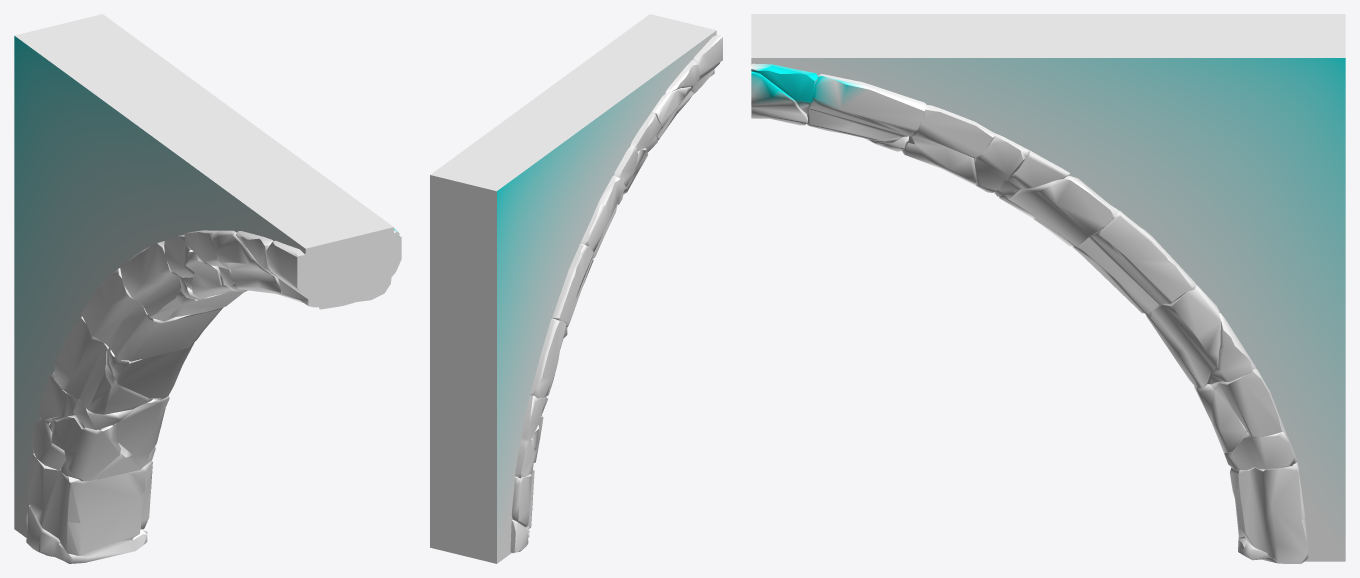
File: SM_ArchWall_OpenArch_8x4_A_Half.glb
The picture shows the model from 3 angles, left to right: view 1: azimuth 30°, elevation 25°; view 2: azimuth 150°, elevation 25°; view 3: azimuth 270°, elevation 25°; orthographic projection. The views are drawn at different scales.
Visible parts, largest first — view 1: SM_ArchWall_OpenArch_8x4_A_Half_LOD0; view 2: SM_ArchWall_OpenArch_8x4_A_Half_LOD0; view 3: SM_ArchWall_OpenArch_8x4_A_Half_LOD0.
Part boxes in pixels (box(x1,y1,x2,y2)): SM_ArchWall_OpenArch_8x4_A_Half_LOD0: box(14, 14, 401, 563); SM_ArchWall_OpenArch_8x4_A_Half_LOD0: box(430, 14, 722, 563); SM_ArchWall_OpenArch_8x4_A_Half_LOD0: box(751, 14, 1345, 563).
Bounding box in the file's own units: 0.5876 × 2.64 × 2.82.
